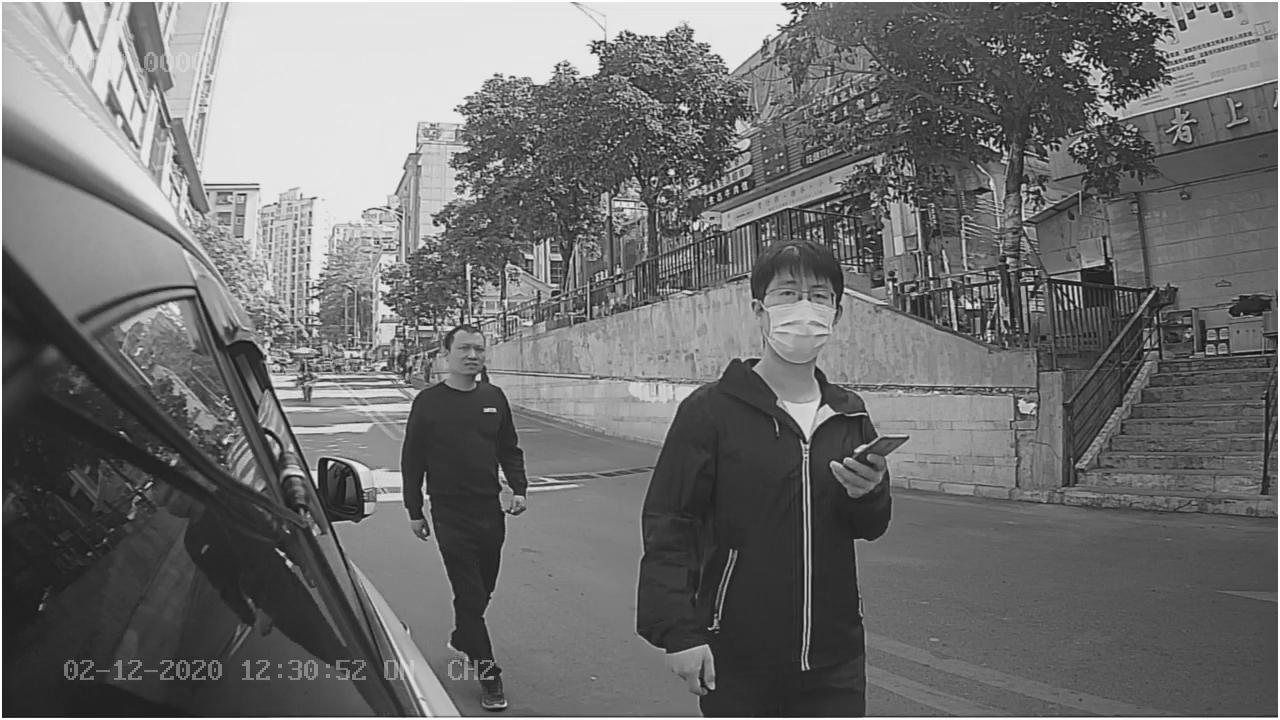person: (630, 237, 900, 699), (399, 311, 533, 546)
